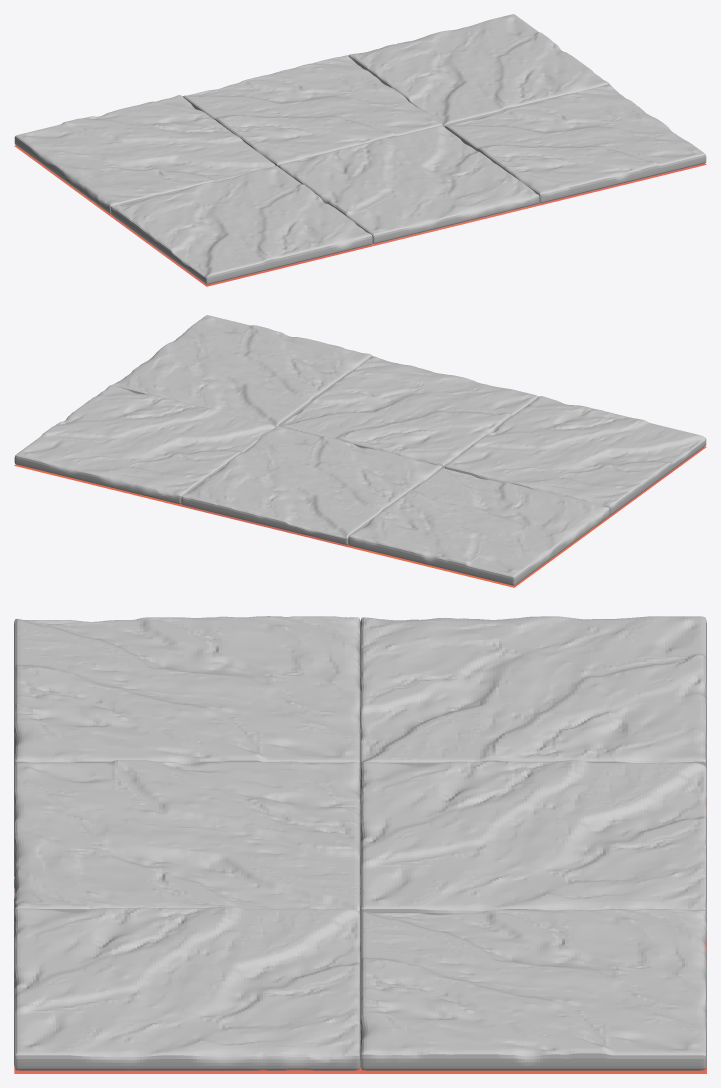
The model's file is RedSandstone.fbx.
3 renders of one model, top to bottom at view 1: azimuth 30°, elevation 25°; view 2: azimuth 150°, elevation 25°; view 3: azimuth 270°, elevation 25°, orthographic. The views are drawn at different scales.
Visible parts, largest first — view 1: SandstoneHighPoly, SandstoneBaked; view 2: SandstoneHighPoly, SandstoneBaked; view 3: SandstoneHighPoly, SandstoneBaked.
Boxes of the visible parts, <box> form: SandstoneHighPoly: <box>14,14,706,284</box>; SandstoneBaked: <box>14,145,706,286</box>; SandstoneHighPoly: <box>14,315,706,585</box>; SandstoneBaked: <box>14,446,706,587</box>; SandstoneHighPoly: <box>14,616,706,1070</box>; SandstoneBaked: <box>14,804,706,1073</box>.
Bounding box in the file's own units: 600 × 15.44 × 400.
